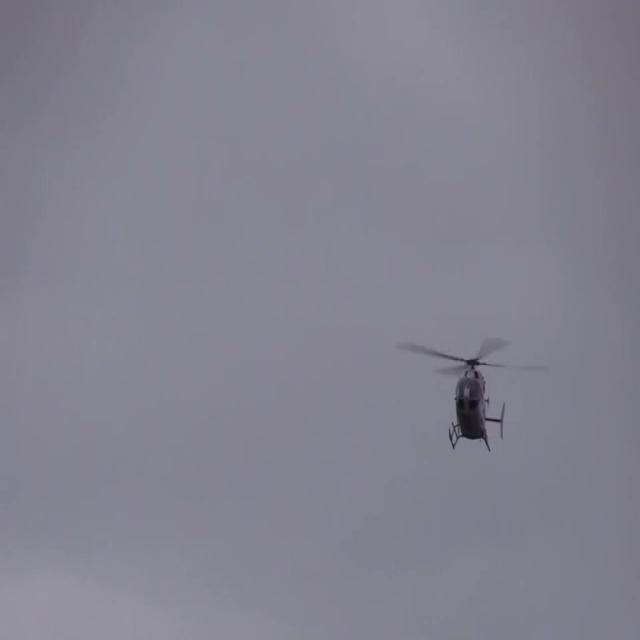Helicopter: (390, 318, 558, 462)
